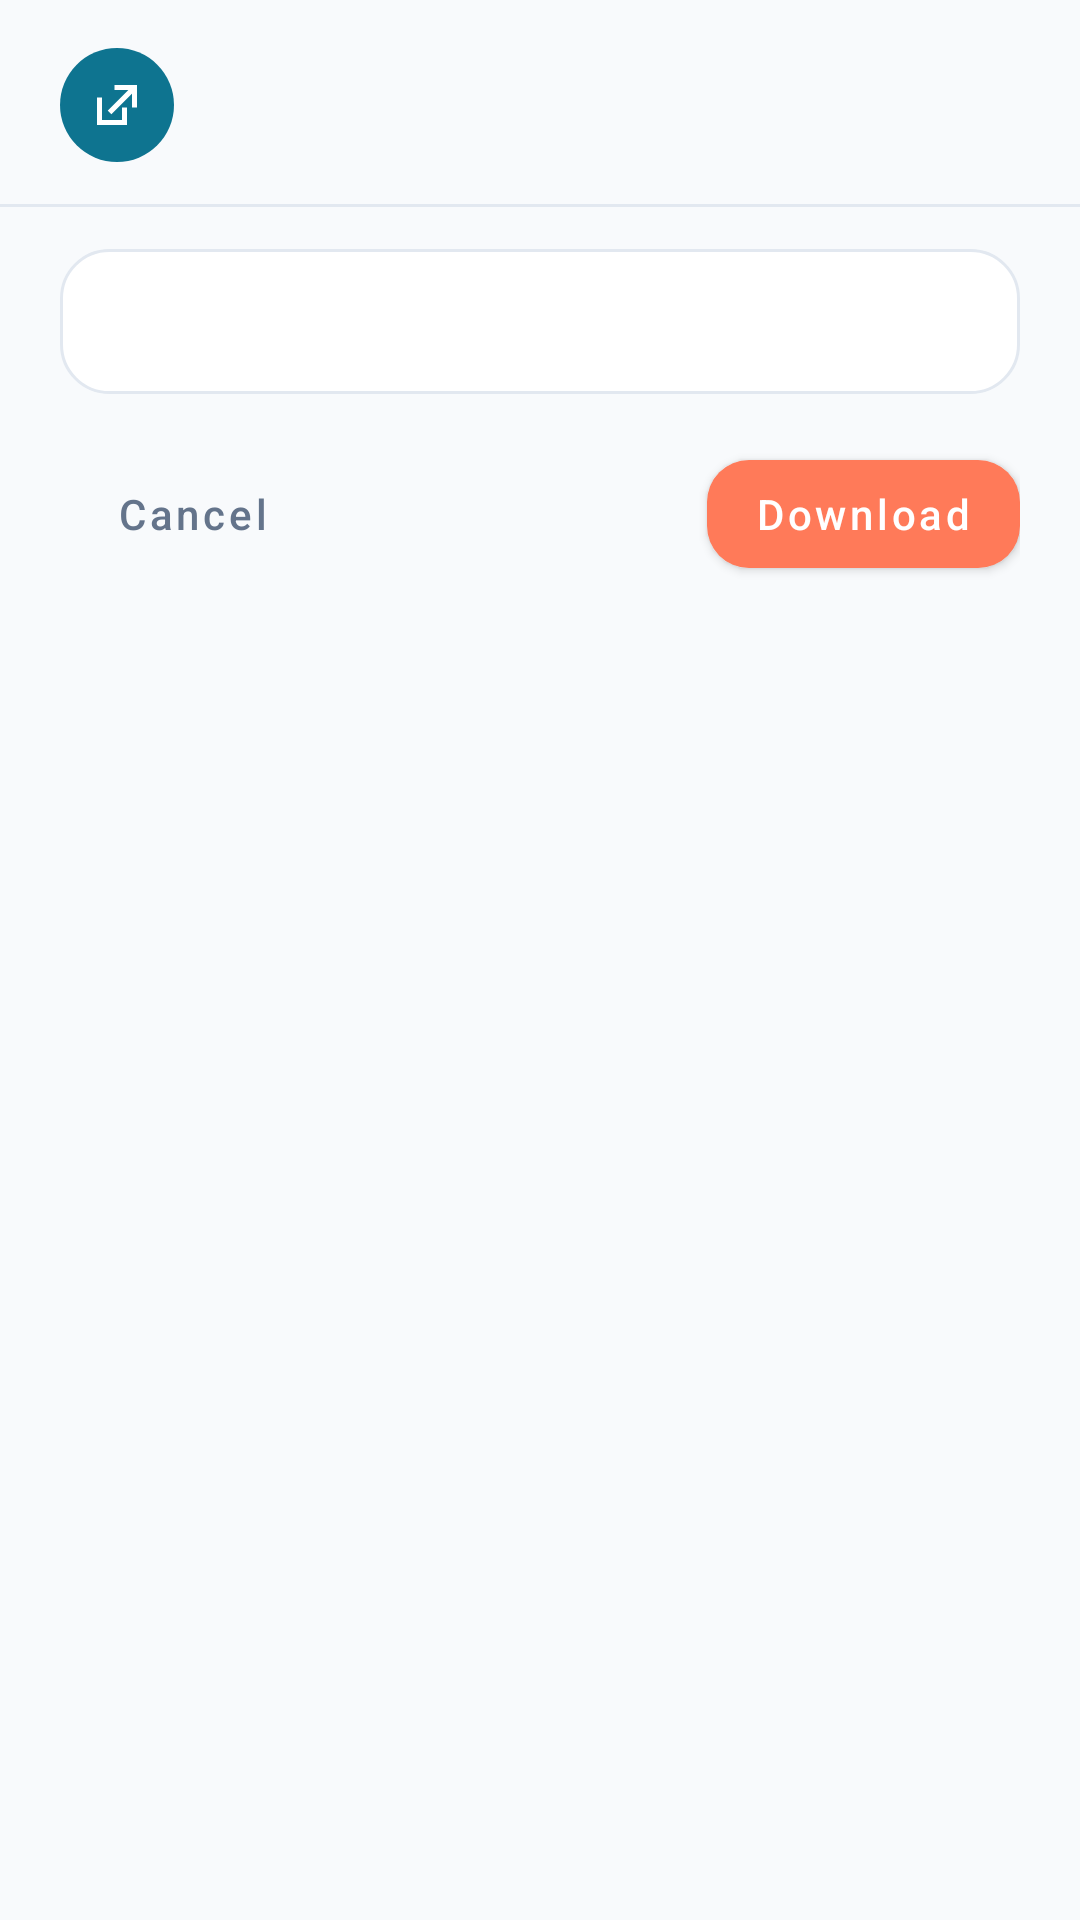

Icons on this 1080px x 1920px Android screen, each with its box as {"left": x1, "top": y1, "right": x2, "bottom": y2}:
link: {"left": 97, "top": 85, "right": 137, "bottom": 125}
